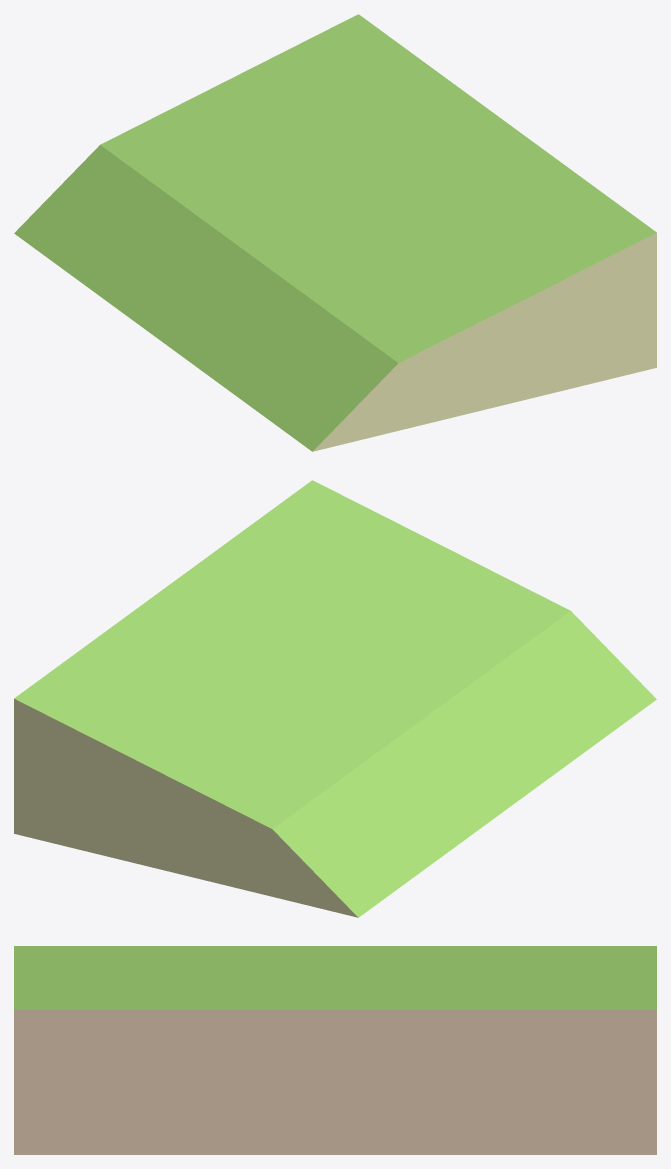
File: Grass_Carpet_Straight_1x1.glb
The picture shows the model from 3 angles, top to bottom: view 1: azimuth 30°, elevation 25°; view 2: azimuth 150°, elevation 25°; view 3: azimuth 270°, elevation 25°; orthographic projection. The views are drawn at different scales.
Parts seen in each view (by area): view 1: Grass_Carpet_Straight_1x1; view 2: Grass_Carpet_Straight_1x1; view 3: Grass_Carpet_Straight_1x1.
Part boxes in pixels (bbox=[...]): Grass_Carpet_Straight_1x1: bbox=[14, 14, 656, 451]; Grass_Carpet_Straight_1x1: bbox=[14, 480, 656, 917]; Grass_Carpet_Straight_1x1: bbox=[14, 946, 656, 1154].
Bounding box in the file's own units: 66.67 × 25 × 100.
